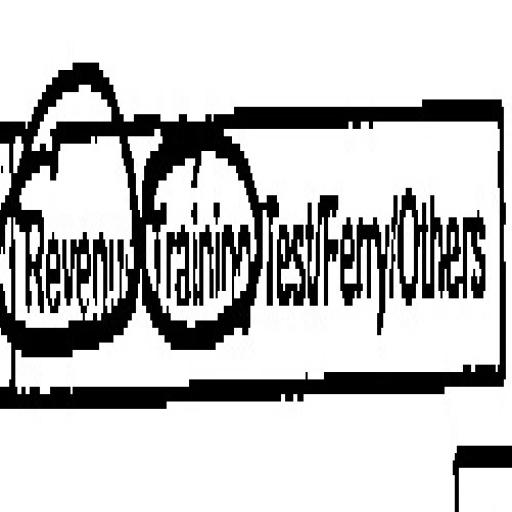check: (10, 9, 140, 450), (142, 84, 260, 424)
